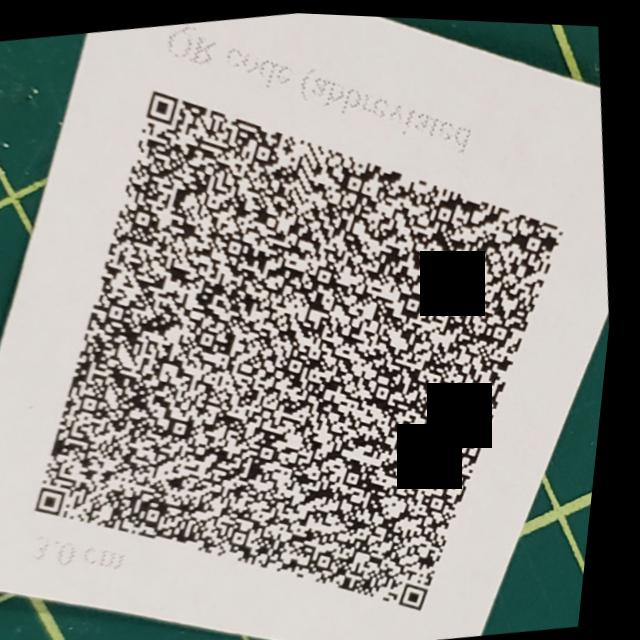QR_CODE: (0, 15, 639, 640)
